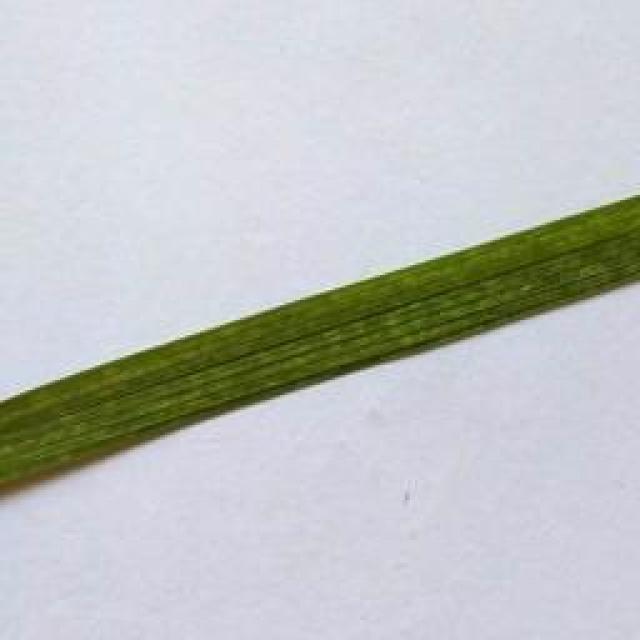Healthy-Plant: (0, 192, 640, 487)
